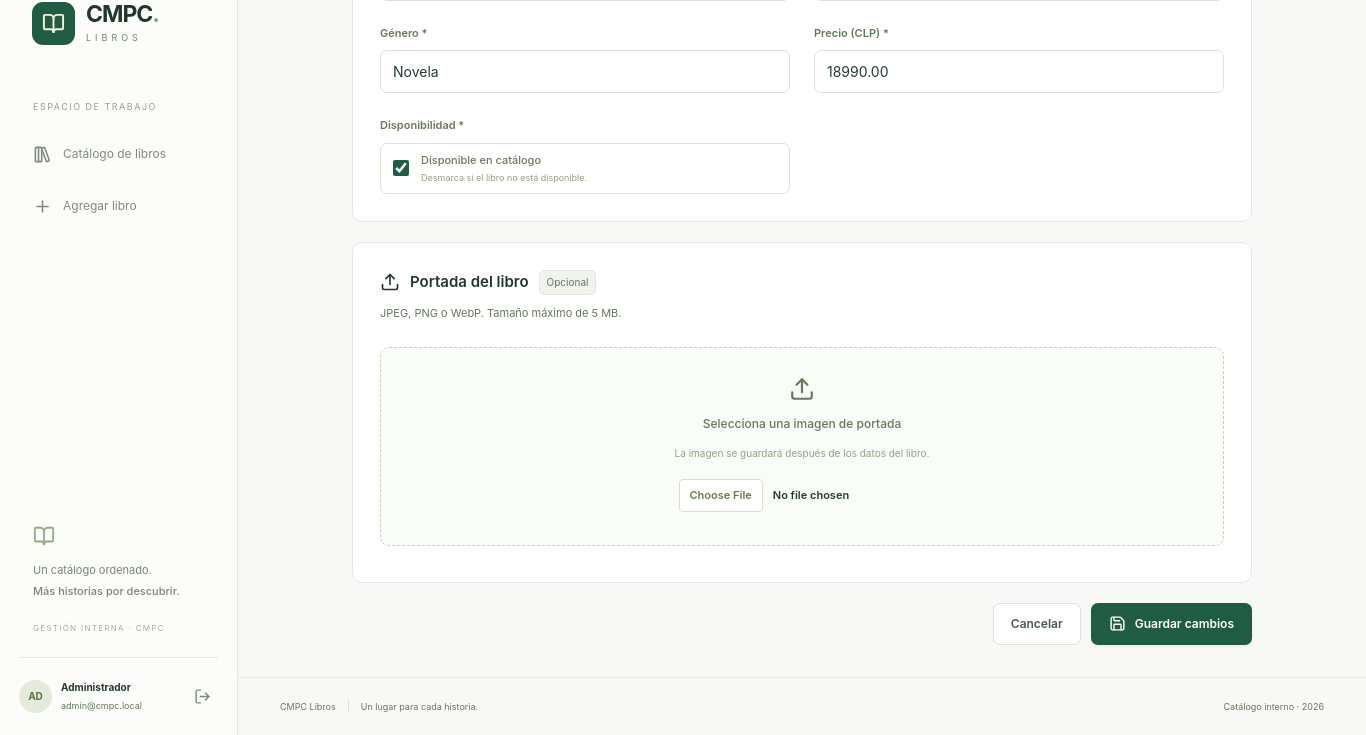
Test: Formulario › precarga edición y muestra error de guardado
(page scrolled)
Click the button "Guardar cambios" at (1171, 624), box [1091, 603, 1252, 645]
(page scrolled)
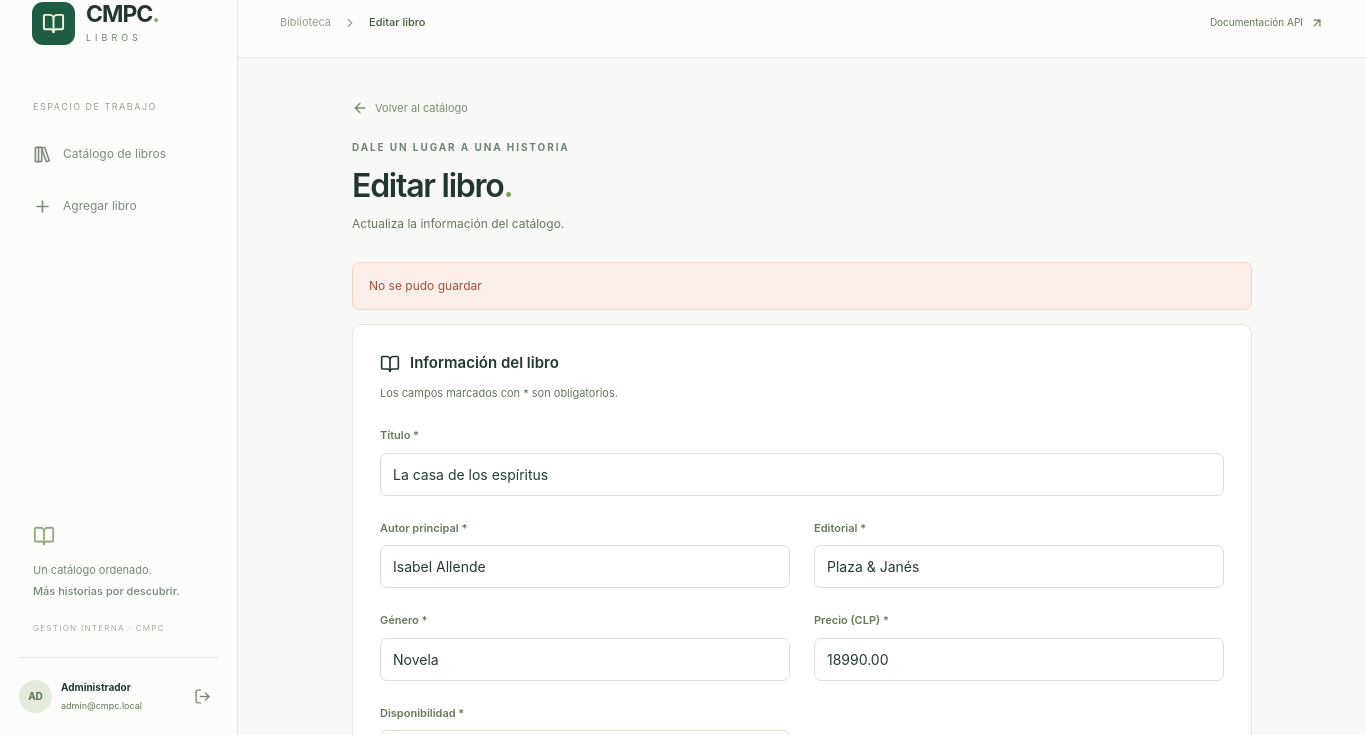
Result: the message reads "No se pudo guardar" at [369, 278, 482, 293]
